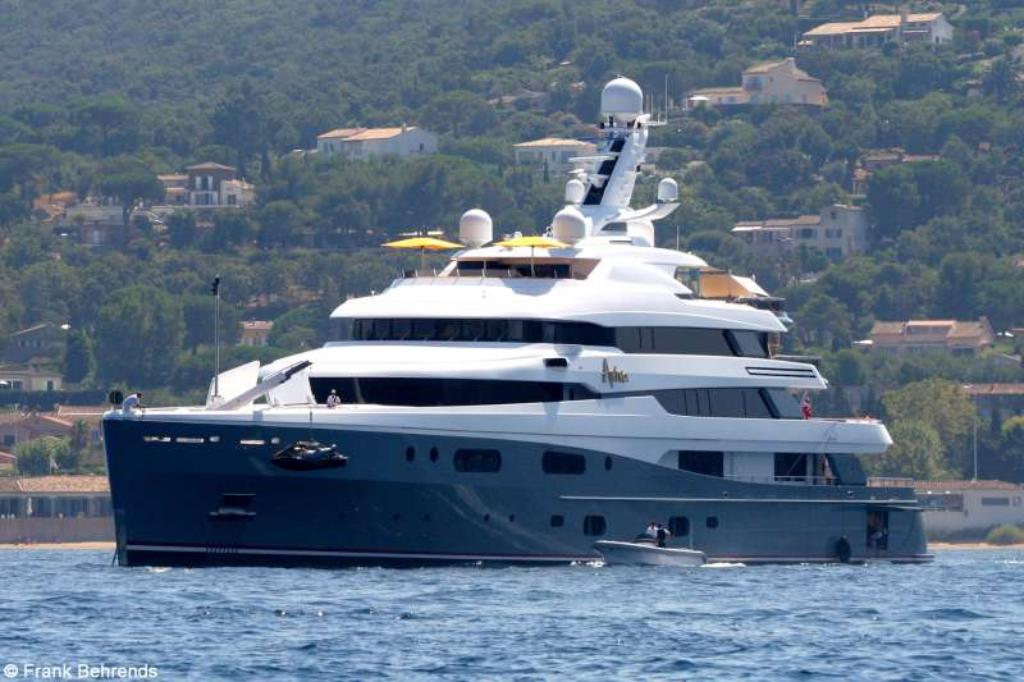PassengerShip: (103, 70, 923, 564)
